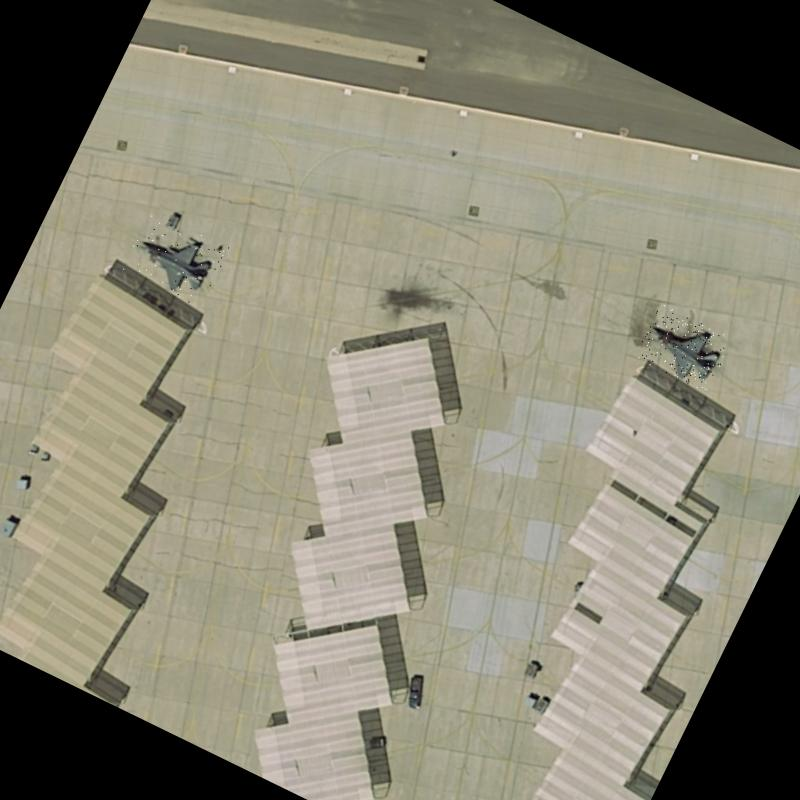A5: (121, 209, 229, 308), (633, 303, 734, 394)
